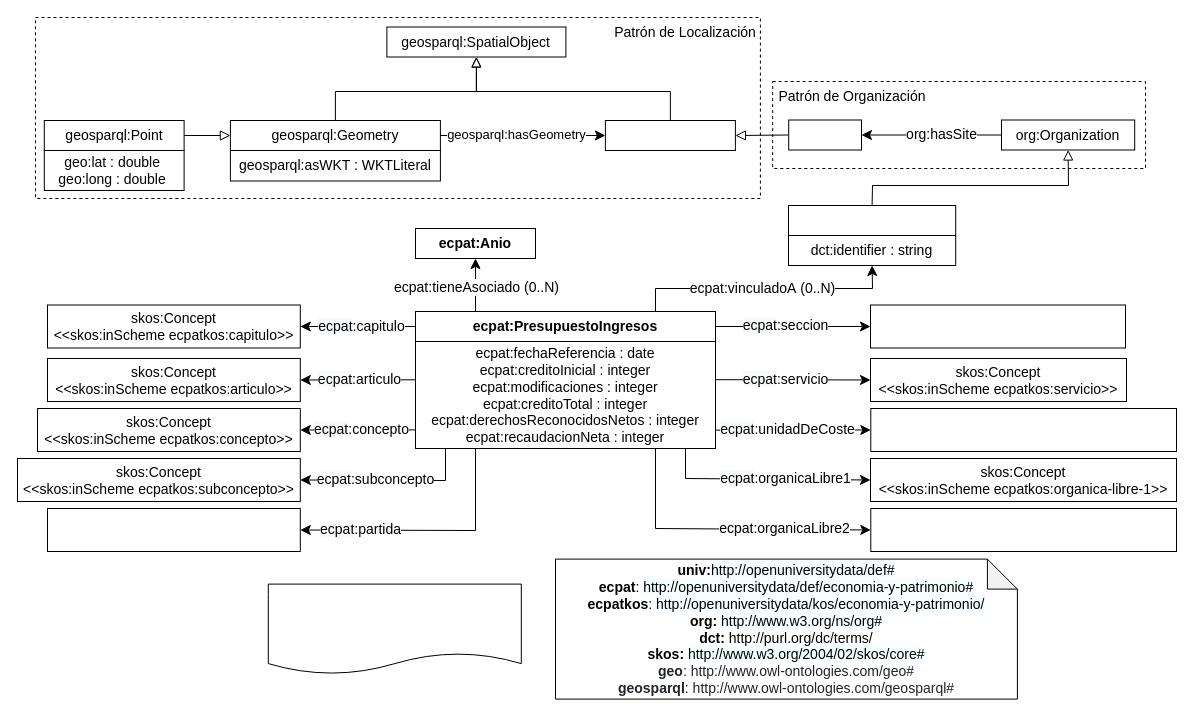
Some shapes in this 1194 by 717 pixel diagram are drawn without their labels. The shapes that lost their labels are listed below. From the top down, each one's box as (x1, y1, x2, y2) in pixels, then its label:
(604, 120, 735, 150): geosparql:Feature
(788, 119, 862, 150): org:Site
(788, 204, 956, 236): univ :Universidad
(870, 304, 1126, 348): skos:Concept <<skos:inScheme ecpatkos:seccion>>
(870, 408, 1176, 452): skos:Concept <<skos:inScheme ecpatkos:unidad-de-coste>>
(46, 508, 300, 552): skos:Concept <<skos:inScheme ecpatkos:partida>>
(870, 508, 1176, 552): skos:Concept <<skos:inScheme ecpatkos:organica-libre-2>>
(267, 583, 521, 674): dc:creator: Víctor Morcuende owl:versionInfo: 0.0.2 dc:title: PresIngr Ontology
